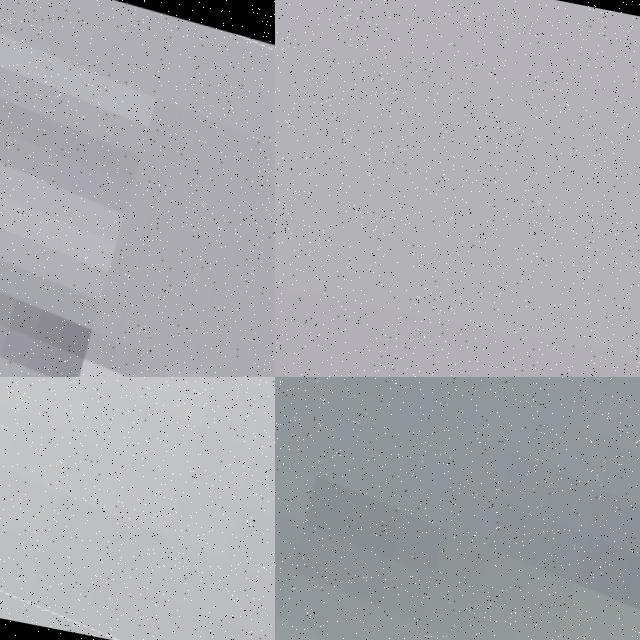drone: (0, 0, 275, 377), (275, 377, 640, 640), (0, 377, 275, 640)
